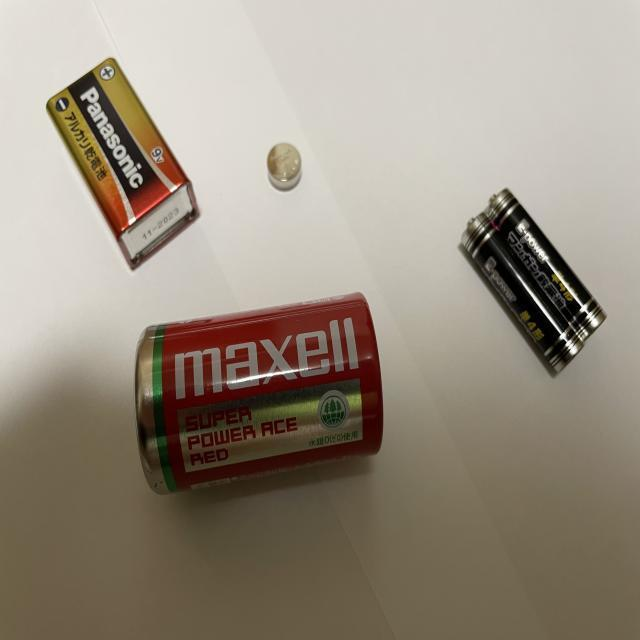9V: (44, 57, 201, 270)
